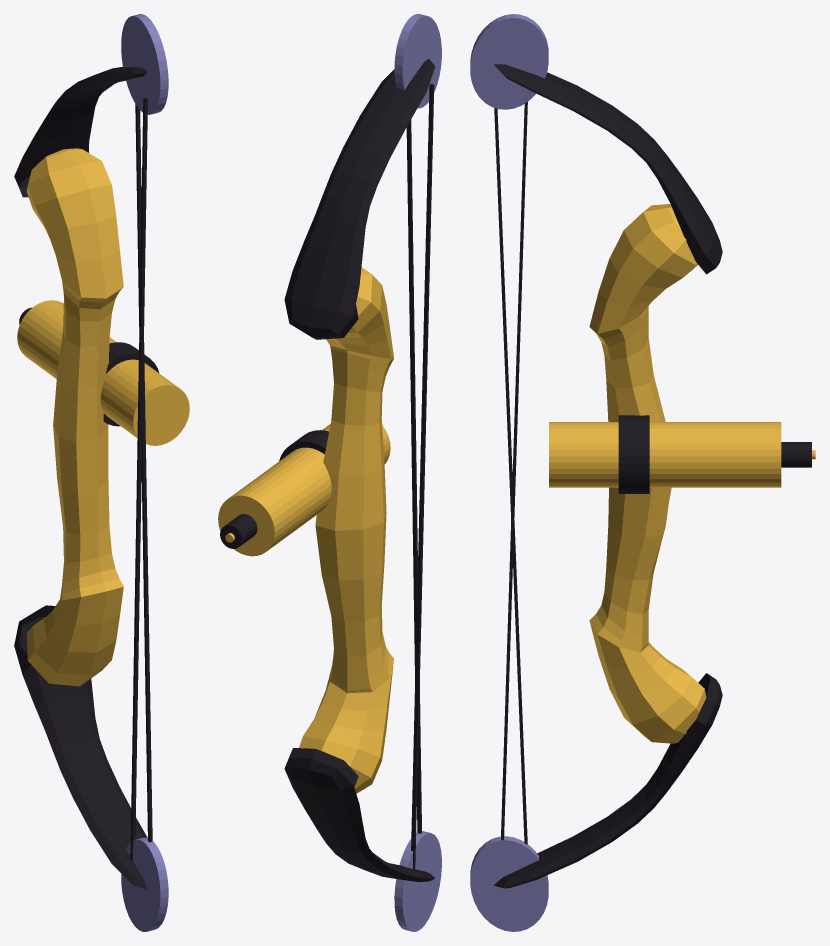
The model's file is bowbase.fbx.
3 renders of one model, left to right at view 1: azimuth 30°, elevation 25°; view 2: azimuth 150°, elevation 25°; view 3: azimuth 270°, elevation 25°, orthographic.
Visible parts, largest first — view 1: Cube, Cube.001, Cylinder, Cylinder.008, Cube.004, Cube.002, Cylinder.003; view 2: Cube, Cube.001, Cylinder, Cylinder.008, Cube.004, Cube.002, Cylinder.002, Cylinder.003; view 3: Cube, Cube.001, Cylinder, Cylinder.008, Cube.002, Cube.004, Cylinder.003, Cylinder.002.
Part boxes in pixels (x1=…): Cube: x1=26, y1=148, x2=123, y2=686; Cube.001: x1=14, y1=66, x2=147, y2=889; Cylinder: x1=17, y1=300, x2=189, y2=445; Cylinder.008: x1=121, y1=14, x2=168, y2=931; Cube.004: x1=130, y1=97, x2=147, y2=860; Cube.002: x1=135, y1=104, x2=152, y2=842; Cylinder.003: x1=103, y1=342, x2=159, y2=426; Cube: x1=299, y1=267, x2=393, y2=793; Cube.001: x1=284, y1=59, x2=435, y2=882; Cylinder: x1=218, y1=424, x2=390, y2=556; Cylinder.008: x1=394, y1=14, x2=441, y2=931; Cube.004: x1=411, y1=84, x2=434, y2=869; Cube.002: x1=406, y1=119, x2=421, y2=833; Cylinder.002: x1=220, y1=514, x2=257, y2=548; Cylinder.003: x1=279, y1=430, x2=328, y2=460; Cube: x1=589, y1=204, x2=706, y2=743; Cube.001: x1=494, y1=64, x2=722, y2=888; Cylinder: x1=549, y1=422, x2=781, y2=487; Cylinder.008: x1=470, y1=14, x2=548, y2=931; Cube.002: x1=501, y1=102, x2=527, y2=840; Cube.004: x1=494, y1=108, x2=527, y2=844; Cylinder.003: x1=618, y1=415, x2=649, y2=493; Cylinder.002: x1=781, y1=442, x2=811, y2=467.
Bounding box in the file's own units: 57.4 × 471 × 161.
